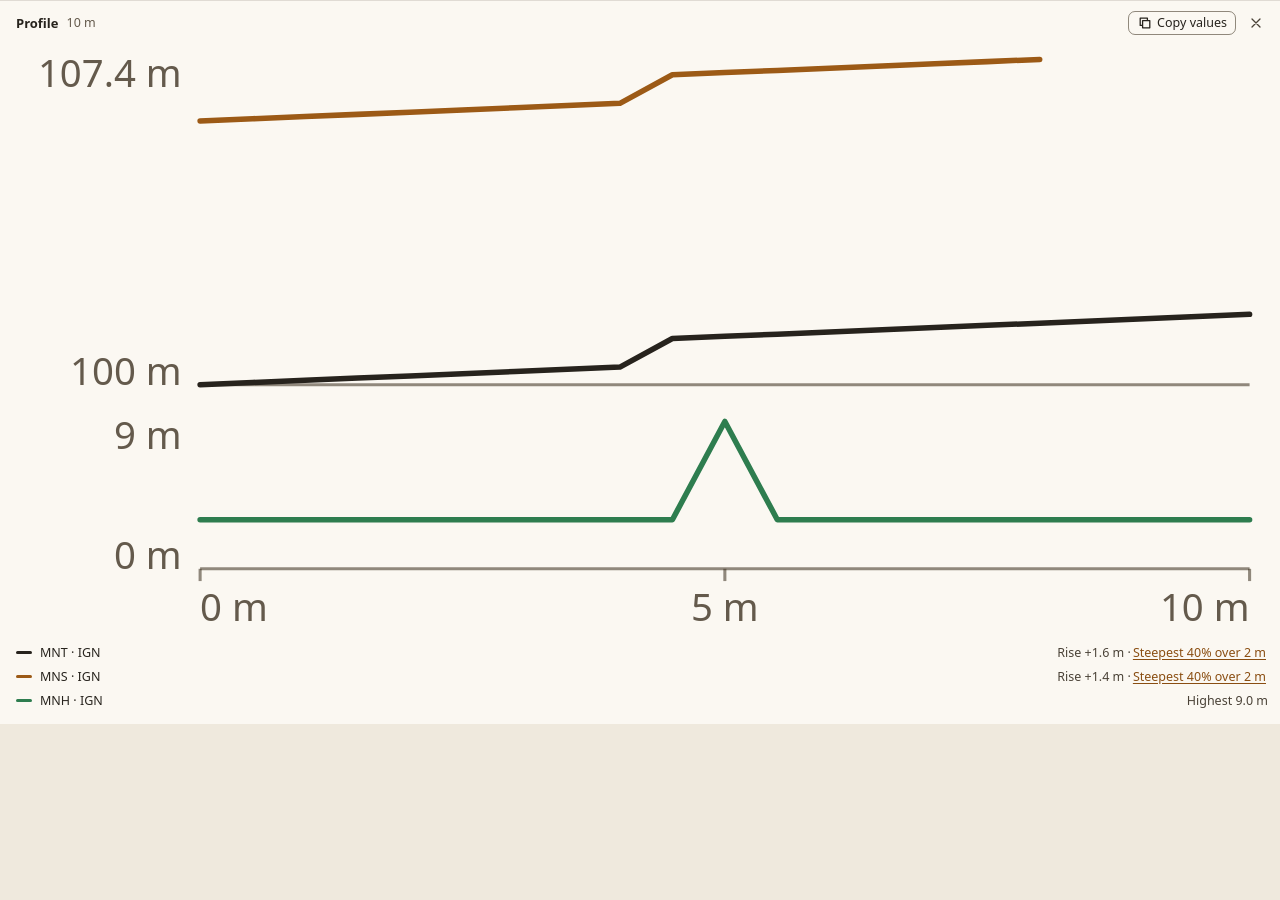
Test: ProfileChart › Copy values writes the tab-separated text inside the click, then says Copied
This screenshot has width=1280, height=900.
Click the button "Copy values": [1182, 23] box [1128,11,1236,35]
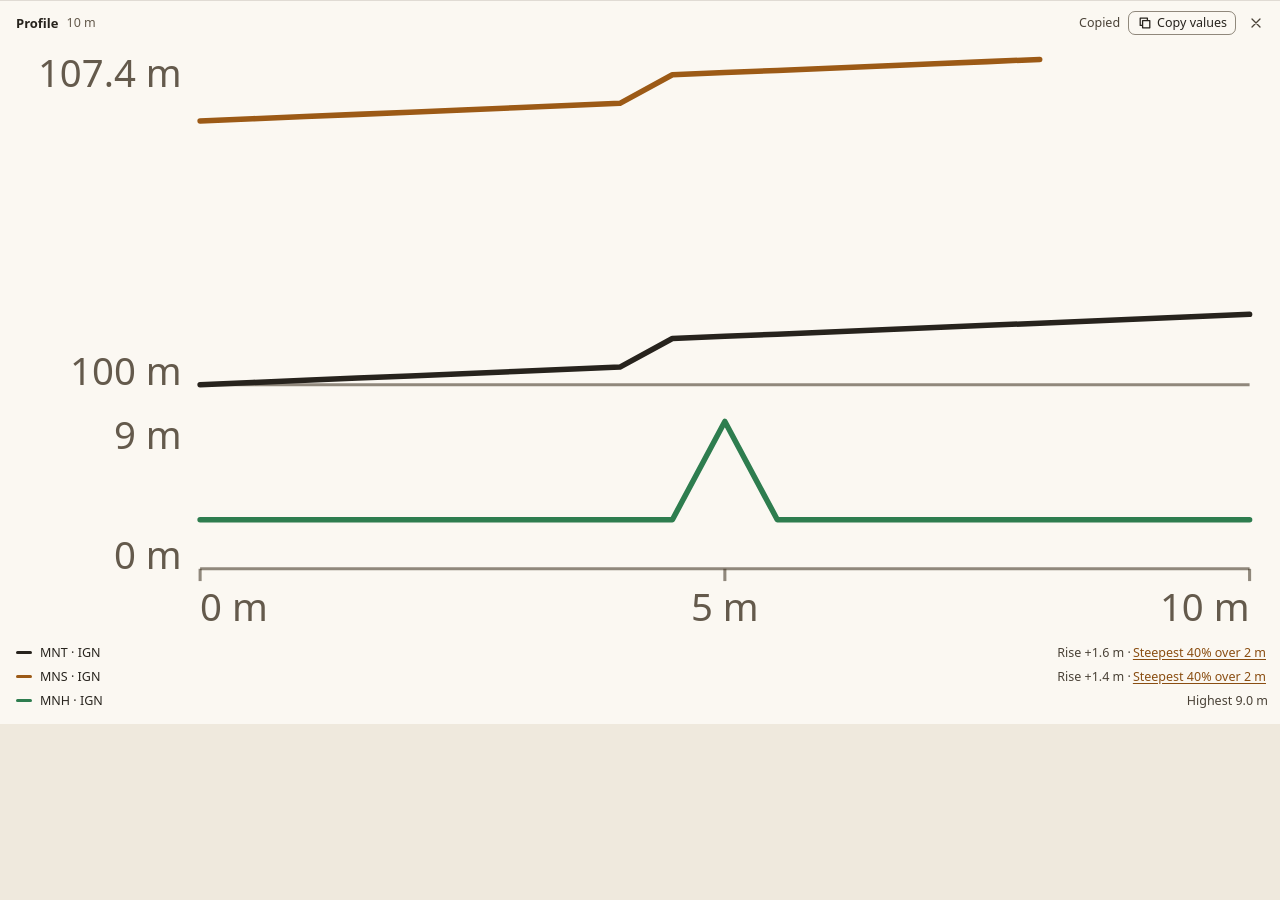
Result: the text "Copied" is shown at [1079,14,1120,32]
